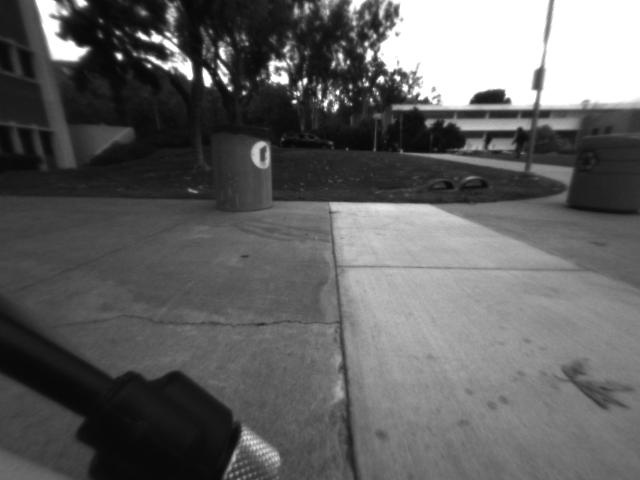trashcan: (199, 110, 284, 219), (564, 117, 640, 236)
